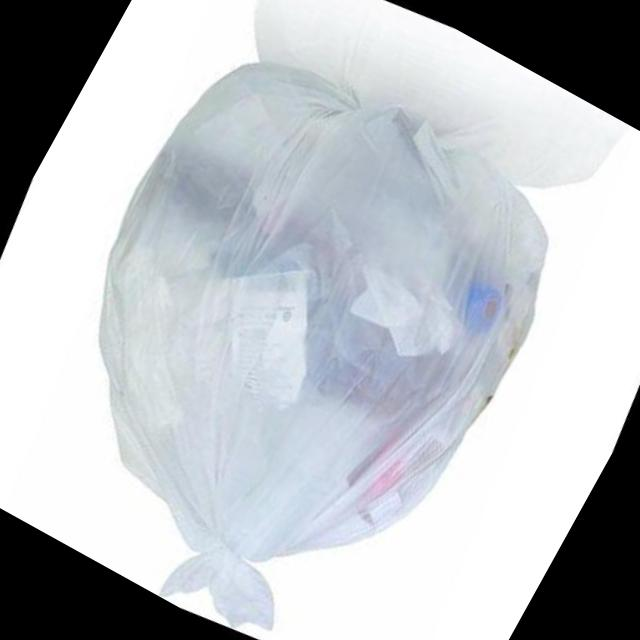KantongPlastik: (0, 10, 597, 640)
